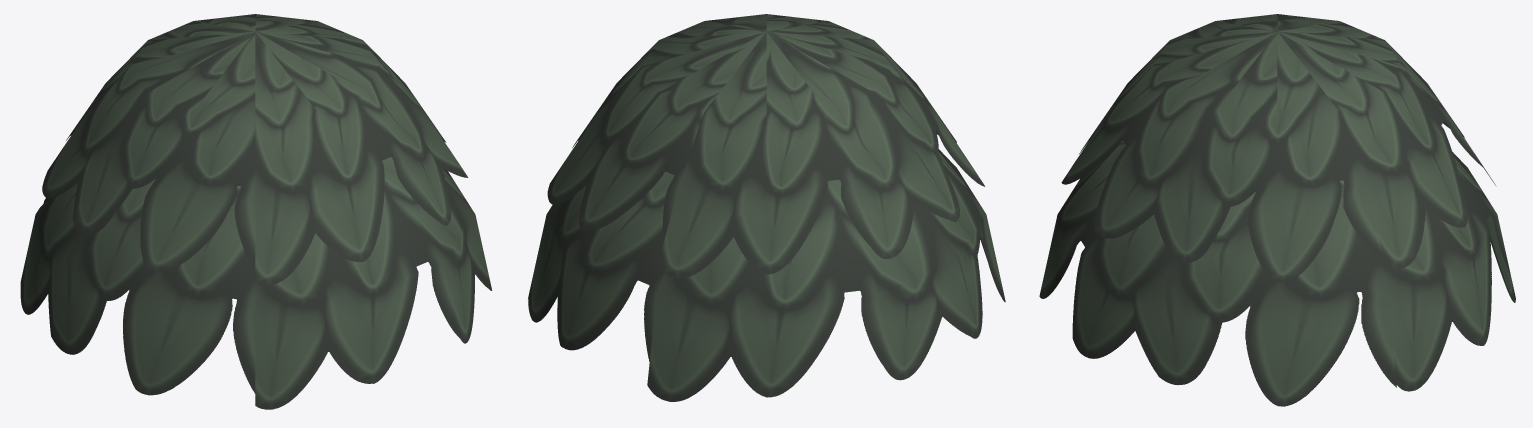
File: bush_01.FBX
The picture shows the model from 3 angles, left to right: view 1: azimuth 30°, elevation 25°; view 2: azimuth 150°, elevation 25°; view 3: azimuth 270°, elevation 25°; orthographic projection.
Visible parts, largest first — view 1: bush_01; view 2: bush_01; view 3: bush_01.
Part boxes in pixels (left/top/right/bottom): bush_01: left=20, top=14, right=492, bottom=409; bush_01: left=528, top=14, right=1005, bottom=401; bush_01: left=1039, top=14, right=1515, bottom=406.
Bounding box in the file's own units: 53.06 × 33.97 × 53.06.
1 material, 1 textured.
